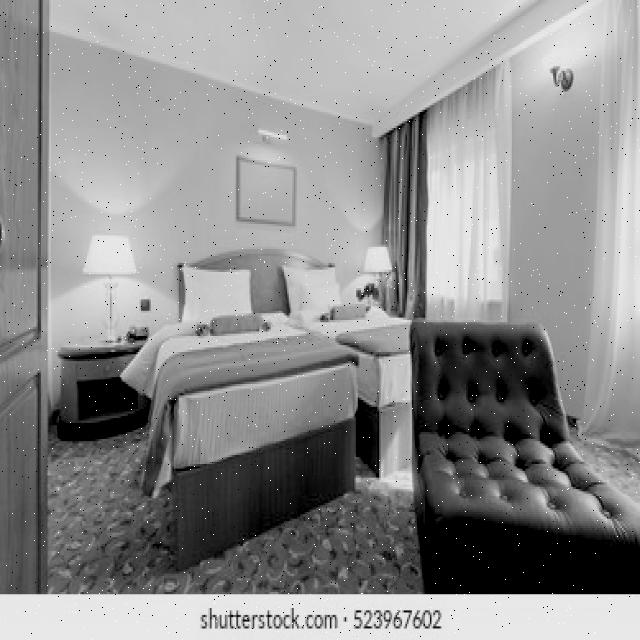bed: (156, 270, 351, 503), (299, 258, 414, 402)
